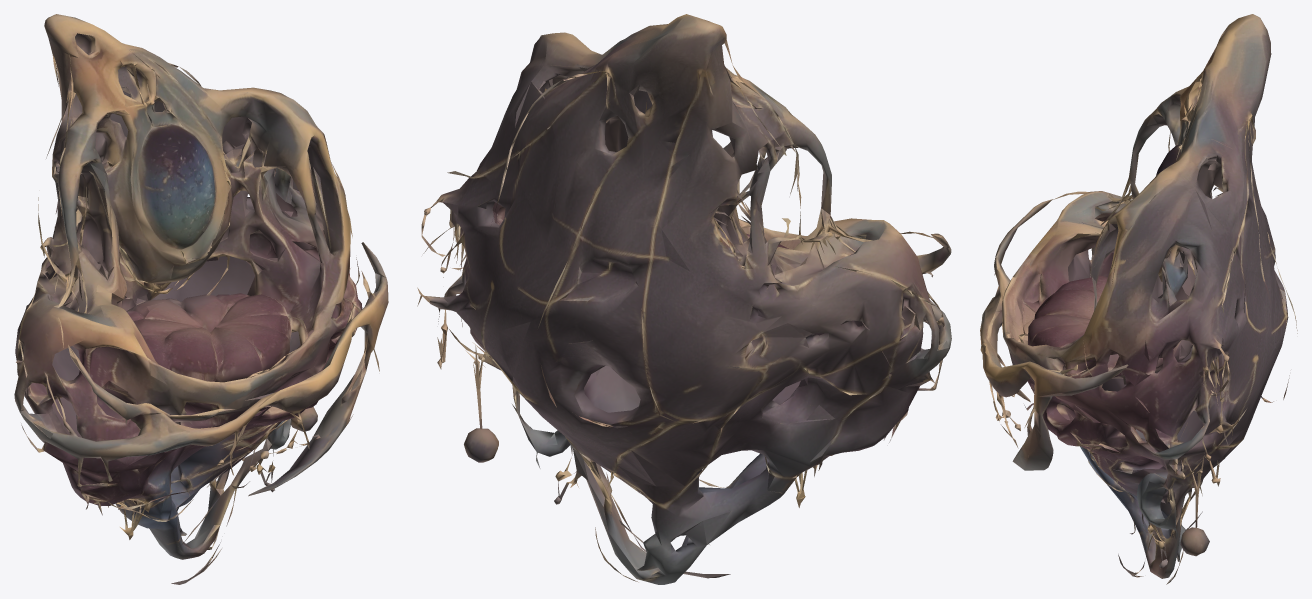
Rendered from Seat 3D.glb.
3 renders of one model, left to right at view 1: azimuth 30°, elevation 25°; view 2: azimuth 150°, elevation 25°; view 3: azimuth 270°, elevation 25°, orthographic. The views are drawn at different scales.
Bounding box in the file's own units: 1.47 × 2 × 1.1.
Materials: 1 (1 with a texture image).
